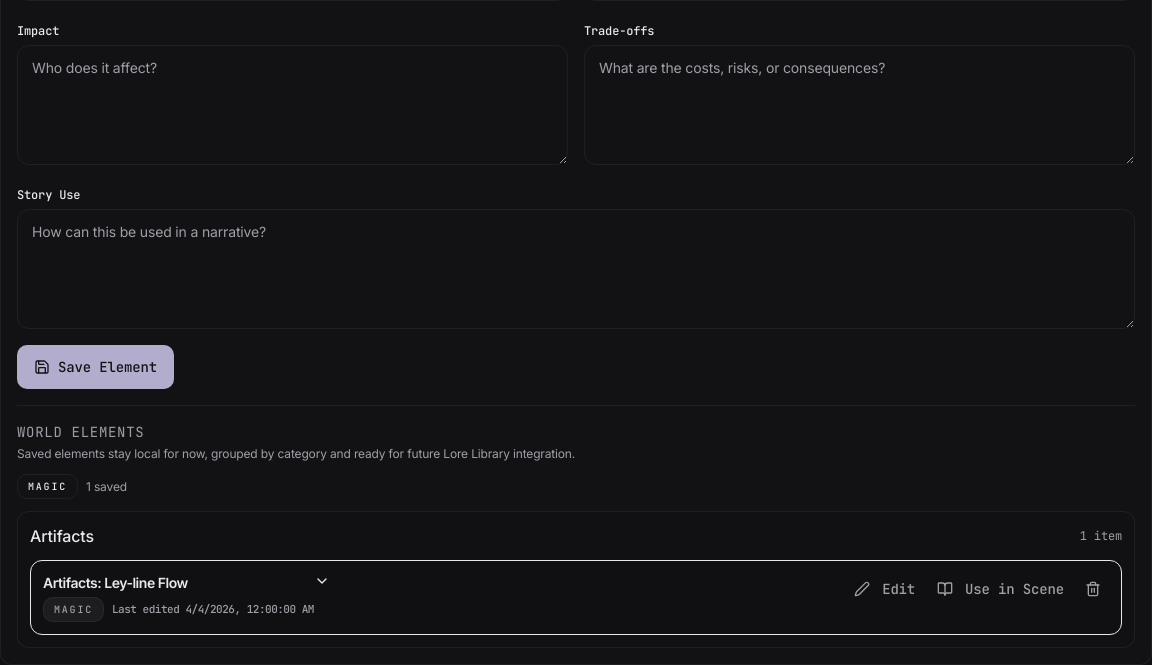
Test: WorldElementDesigner › deletes a saved world element after confirmation
(page scrolled)
Click the button named "delete artifacts: ley-line flow" at (1093, 589), box left=1077, top=573, right=1109, bottom=605
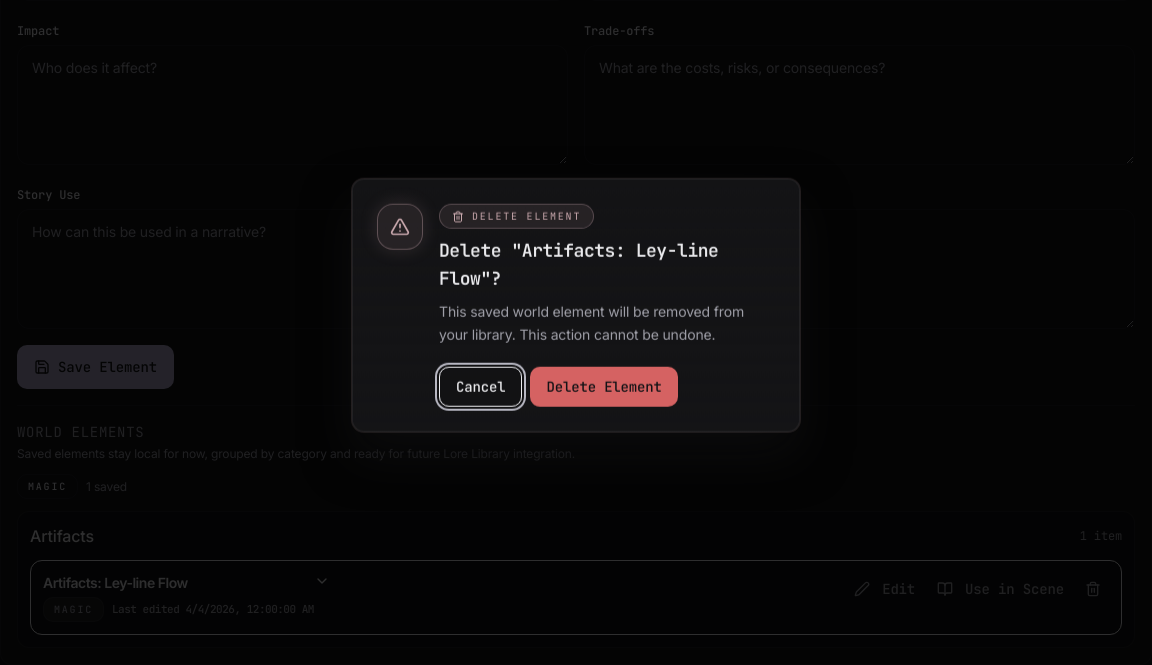
Check: the heading "Delete \"Artifacts: Ley-line Flow\"?" is shown, box left=439, top=239, right=718, bottom=290
Click the button "Delete Element" at (604, 386), box left=530, top=366, right=678, bottom=406
(page scrolled)
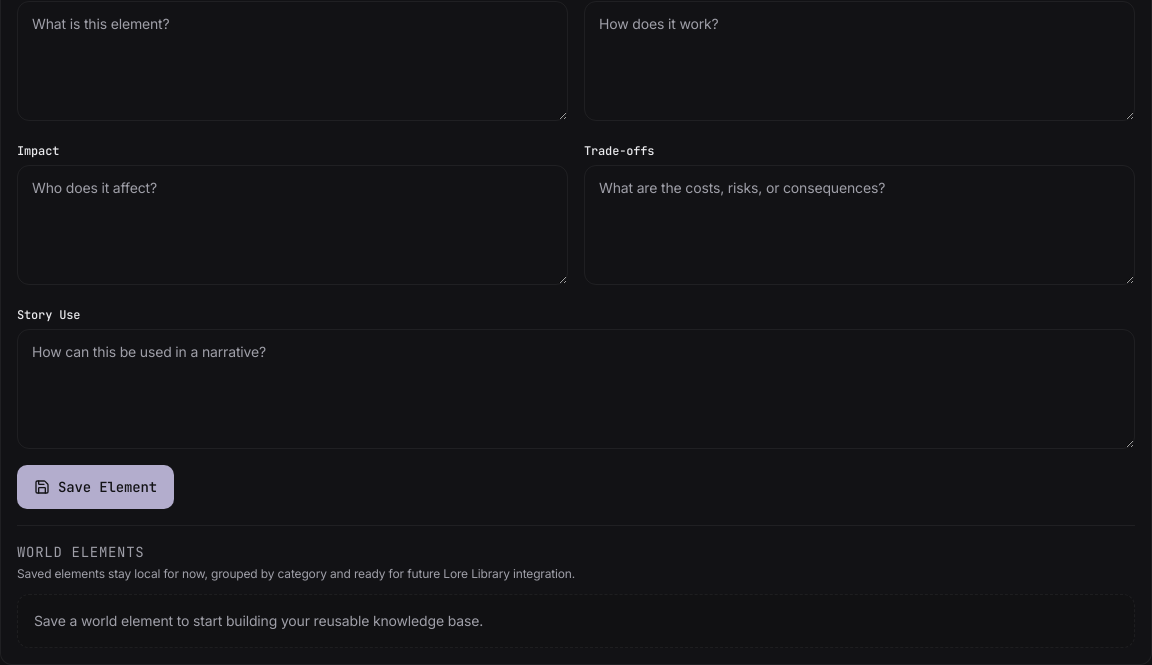
Check: the button "Artifacts: Ley-line Flow" is gone
